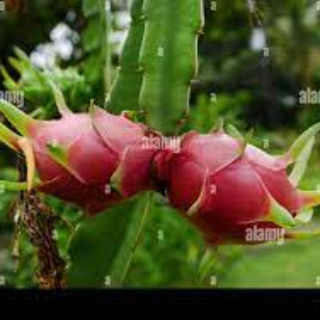thanh_long: (173, 128, 301, 247), (15, 108, 161, 204)
